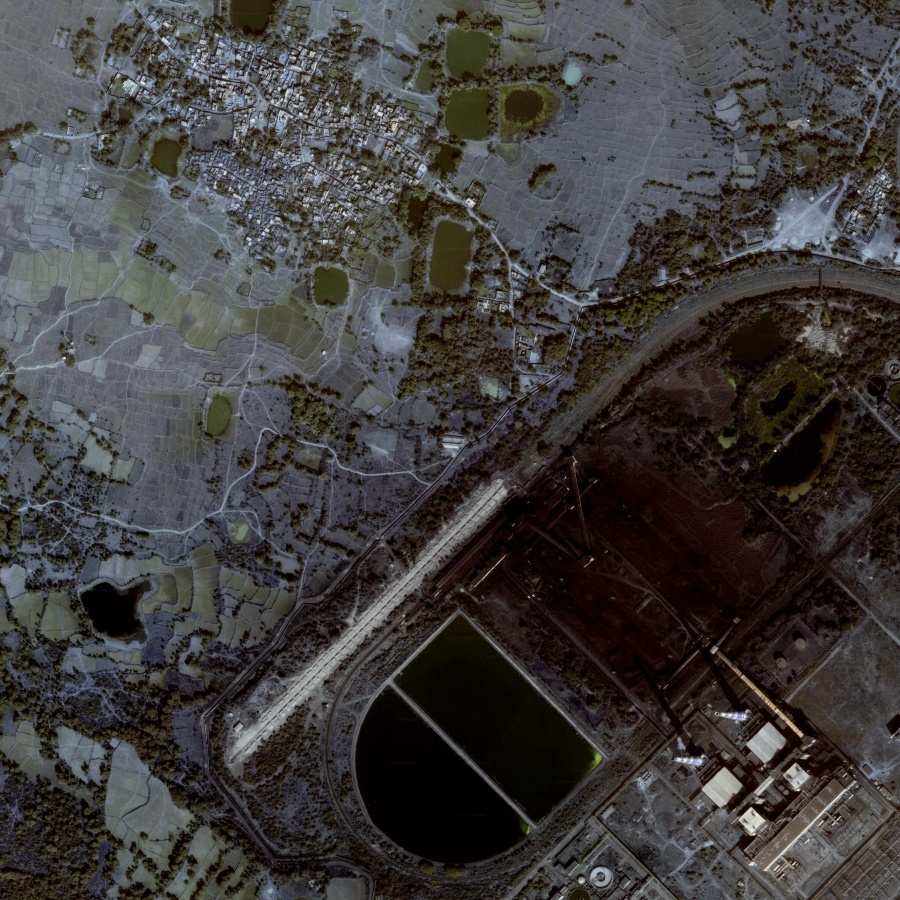PowerPlant: (338, 383, 849, 895)
